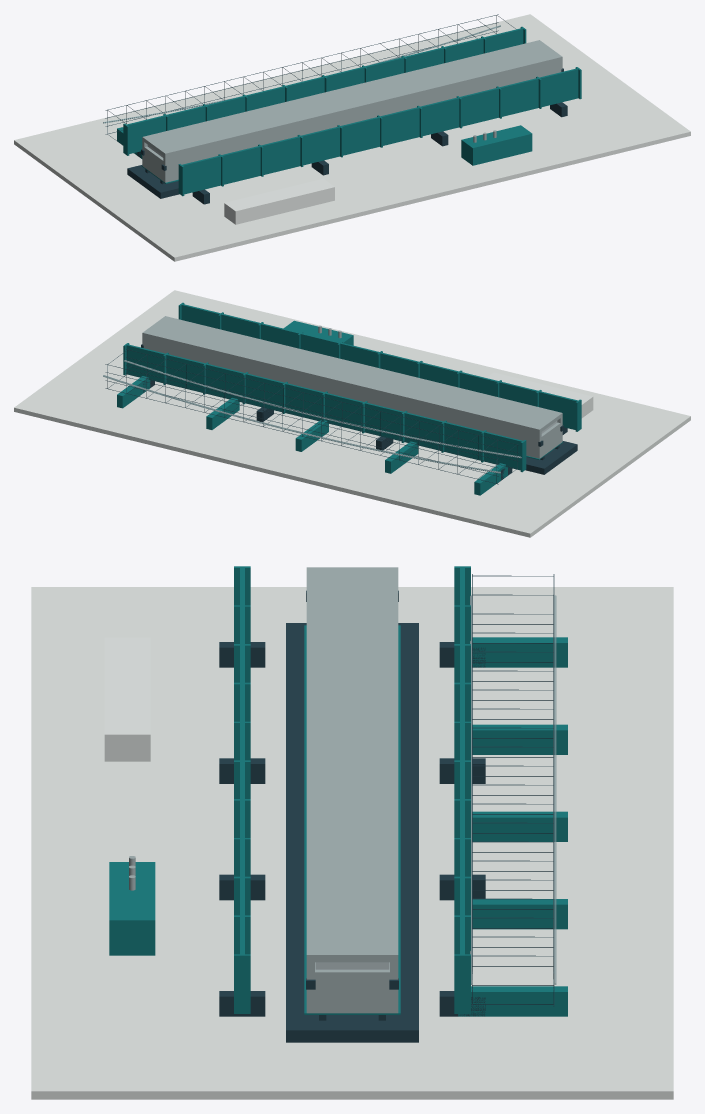
Rendered from precast-fabrication.glb.
3 views of the same model, one above another, from view 1: azimuth 30°, elevation 25°; view 2: azimuth 150°, elevation 25°; view 3: azimuth 270°, elevation 25° (orthographic). The views are drawn at different scales.
Visible parts, largest first — view 1: factory-floor, open-side-form--1, reference-beam-top, open-side-form-1, reference-beam-near-web, curing-cover-rack, inspection-datum-bench, casting-bed, cage-long-0.89--0.292, cage-long-0.89--0.6719999999999999, reference-beam-diaphragm-0; view 2: factory-floor, open-side-form-1, reference-beam-top, open-side-form--1, reference-beam-far-web, curing-cover-rack, casting-bed, inspection-datum-bench, cage-jig-trestle-1, cage-jig-trestle-0, cage-jig-trestle-2, cage-jig-trestle-3 (+9 smaller); view 3: factory-floor, reference-beam-top, casting-bed, curing-cover-rack, inspection-datum-bench, cage-jig-trestle-4, cage-jig-trestle-1, cage-jig-trestle-2, cage-jig-trestle-3, cage-jig-trestle-0, reference-beam-diaphragm-1, base-form-skin (+9 smaller).
Part boxes in pixels (x1=…): factory-floor: x1=14, y1=14, x2=690, y2=261; open-side-form--1: x1=182, y1=68, x2=578, y2=194; reference-beam-top: x1=142, y1=40, x2=562, y2=157; open-side-form-1: x1=127, y1=28, x2=523, y2=153; reference-beam-near-web: x1=163, y1=60, x2=562, y2=178; curing-cover-rack: x1=224, y1=178, x2=334, y2=224; inspection-datum-bench: x1=461, y1=125, x2=532, y2=165; casting-bed: x1=127, y1=165, x2=179, y2=198; cage-long-0.89--0.292: x1=105, y1=14, x2=498, y2=110; cage-long-0.89--0.6719999999999999: x1=105, y1=22, x2=498, y2=118; reference-beam-diaphragm-0: x1=144, y1=146, x2=163, y2=177; factory-floor: x1=14, y1=290, x2=690, y2=537; open-side-form-1: x1=126, y1=344, x2=522, y2=470; reference-beam-top: x1=142, y1=316, x2=562, y2=433; open-side-form--1: x1=181, y1=304, x2=578, y2=429; reference-beam-far-web: x1=142, y1=336, x2=541, y2=454; curing-cover-rack: x1=487, y1=372, x2=593, y2=418; casting-bed: x1=525, y1=441, x2=577, y2=474; inspection-datum-bench: x1=283, y1=320, x2=353, y2=345; cage-jig-trestle-1: x1=385, y1=441, x2=418, y2=473; cage-jig-trestle-0: x1=474, y1=463, x2=507, y2=495; cage-jig-trestle-2: x1=295, y1=419, x2=328, y2=451; cage-jig-trestle-3: x1=206, y1=398, x2=239, y2=429; factory-floor: x1=31, y1=587, x2=673, y2=1099; reference-beam-top: x1=306, y1=567, x2=398, y2=962; casting-bed: x1=286, y1=623, x2=418, y2=1042; curing-cover-rack: x1=104, y1=637, x2=150, y2=761; inspection-datum-bench: x1=109, y1=862, x2=155, y2=955; cage-jig-trestle-4: x1=458, y1=986, x2=567, y2=1016; cage-jig-trestle-1: x1=472, y1=724, x2=567, y2=754; cage-jig-trestle-2: x1=472, y1=811, x2=567, y2=841; cage-jig-trestle-3: x1=472, y1=899, x2=567, y2=929; cage-jig-trestle-0: x1=472, y1=637, x2=567, y2=667; reference-beam-diaphragm-1: x1=315, y1=969, x2=389, y2=1005; base-form-skin: x1=304, y1=625, x2=400, y2=1014.
Bounding box in the file's own units: 26 × 2.08 × 14.
